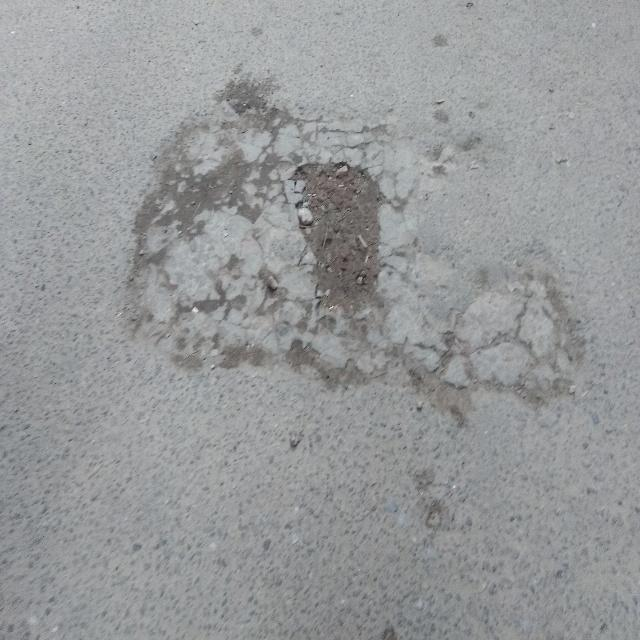Surface Erosion: (61, 41, 640, 499)
